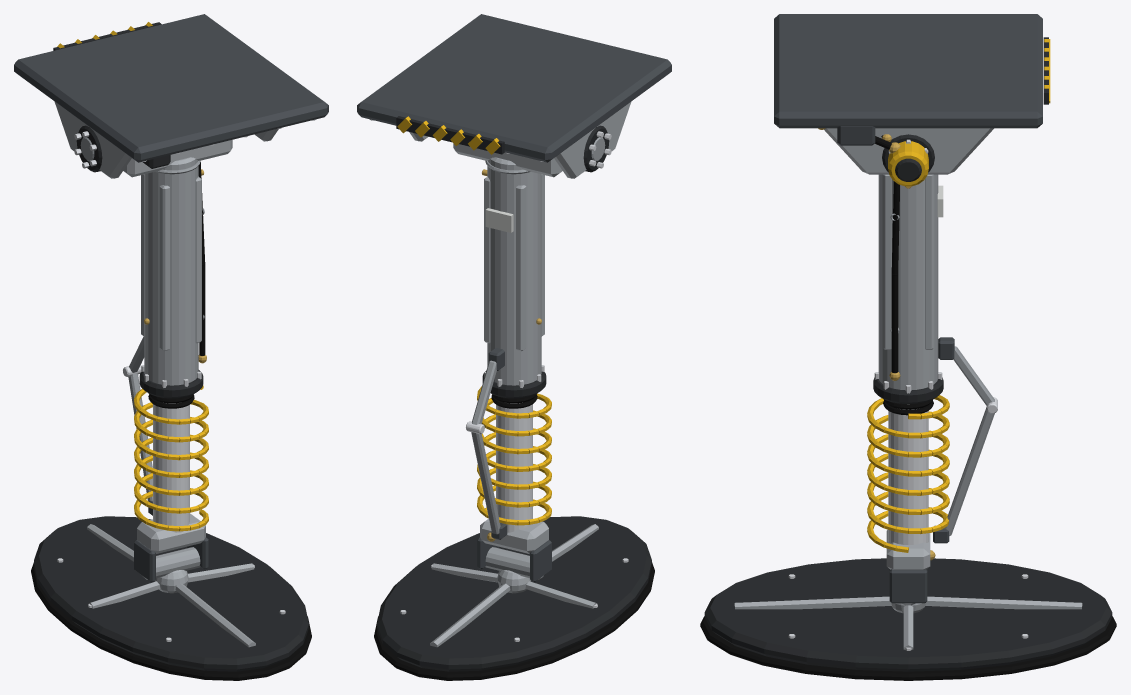
The model's file is landing_gear_small.glb.
3 views of the same model, side by side, from view 1: azimuth 30°, elevation 25°; view 2: azimuth 150°, elevation 25°; view 3: azimuth 270°, elevation 25° (orthographic). The views are drawn at different scales.
Visible parts, largest first — view 1: foot, base, strut, oleo; view 2: foot, base, strut, oleo; view 3: foot, base, strut, oleo.
Part boxes in pixels (x1,y1,x2,y2): foot: (31,516,311,680); base: (14,14,328,178); strut: (80,137,232,398); oleo: (128,373,208,582); foot: (374,516,654,680); base: (357,14,671,178); strut: (453,137,605,434); oleo: (471,386,551,582); foot: (700,558,1116,680); base: (774,14,1050,186); strut: (873,174,997,413); oleo: (867,395,994,603).
Size of the model in its own units: 0.5 by 1.2 by 0.8.
